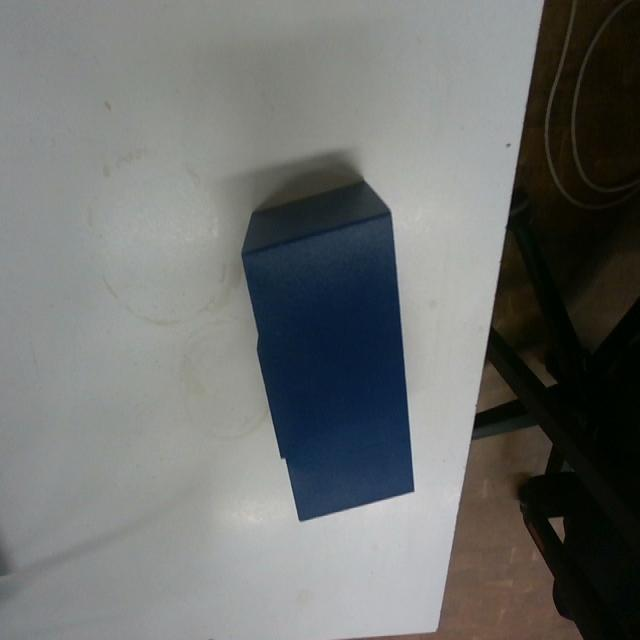Blue Cuboid: (238, 175, 416, 522)
